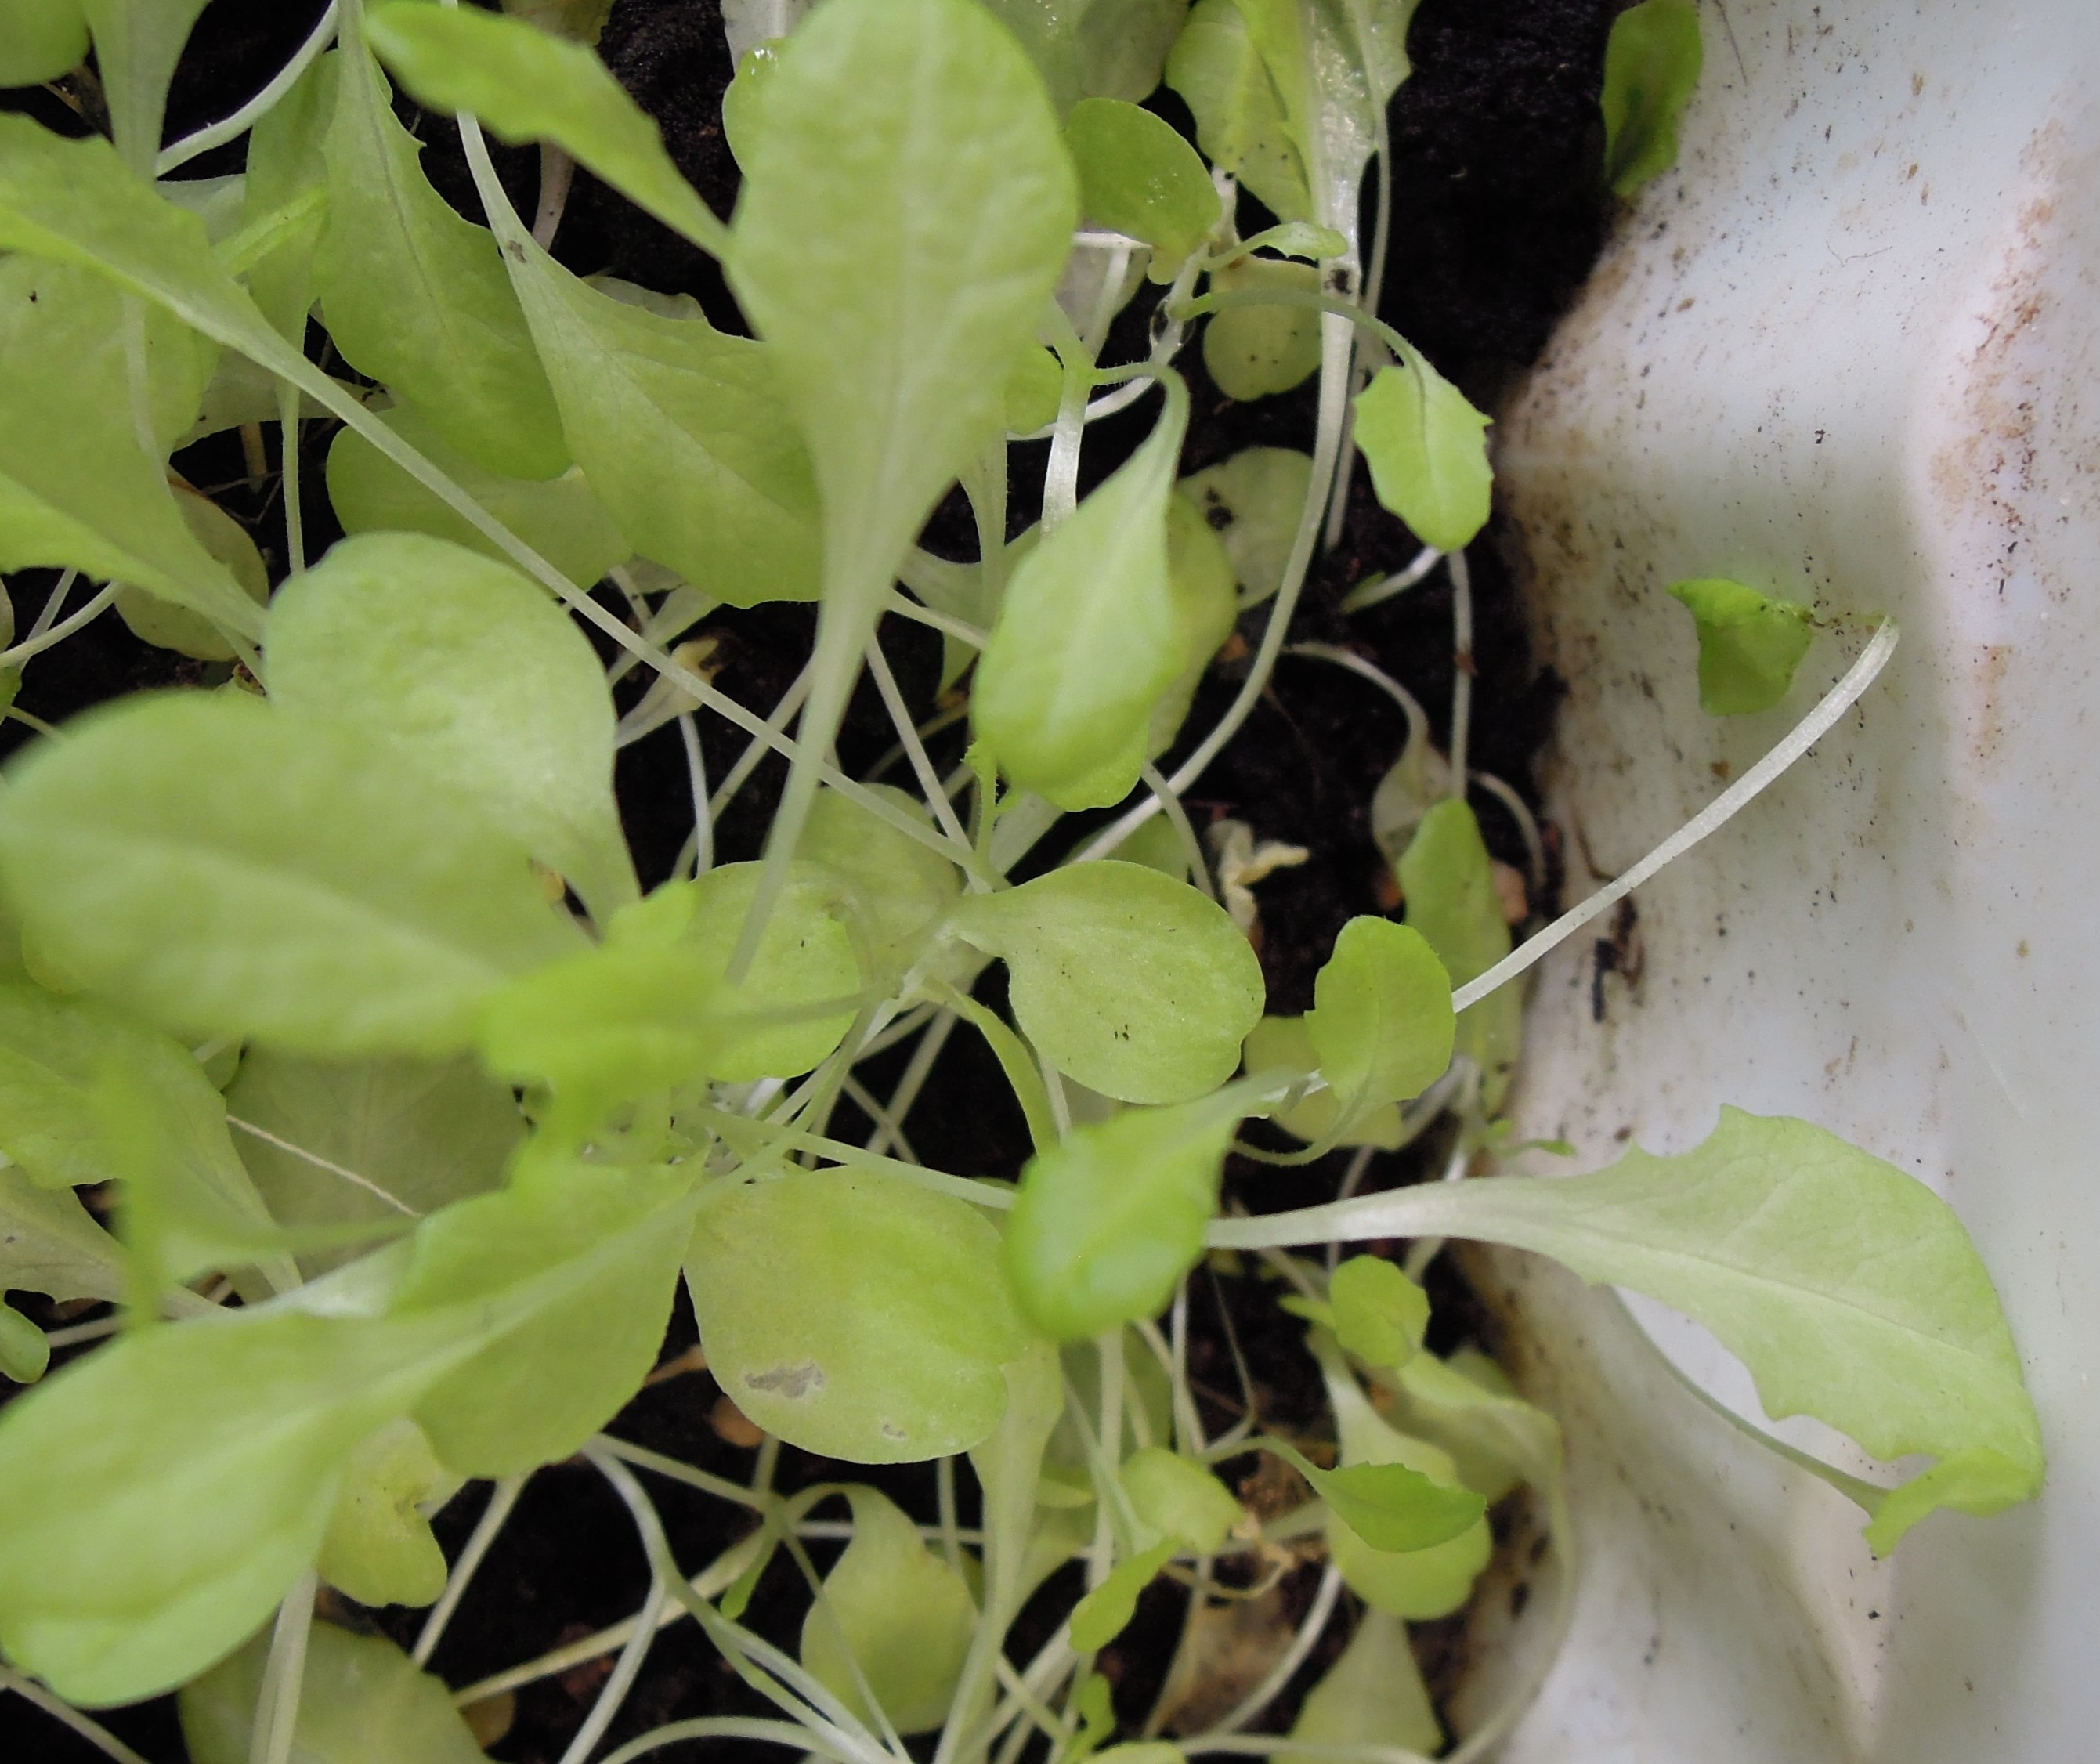weeek6: (0, 5, 2077, 1717)
